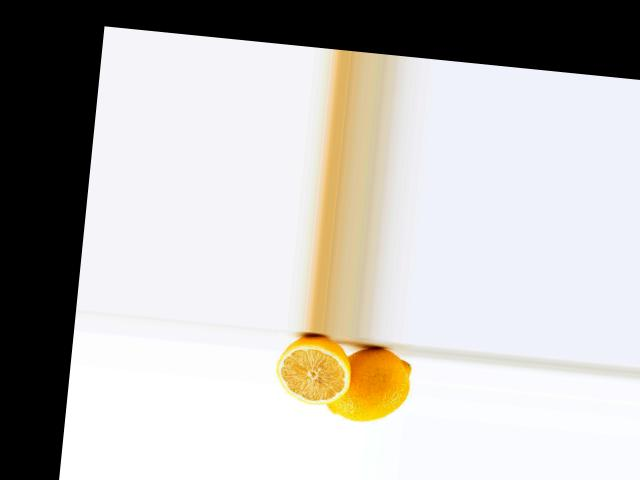lemon: (316, 334, 416, 423)
